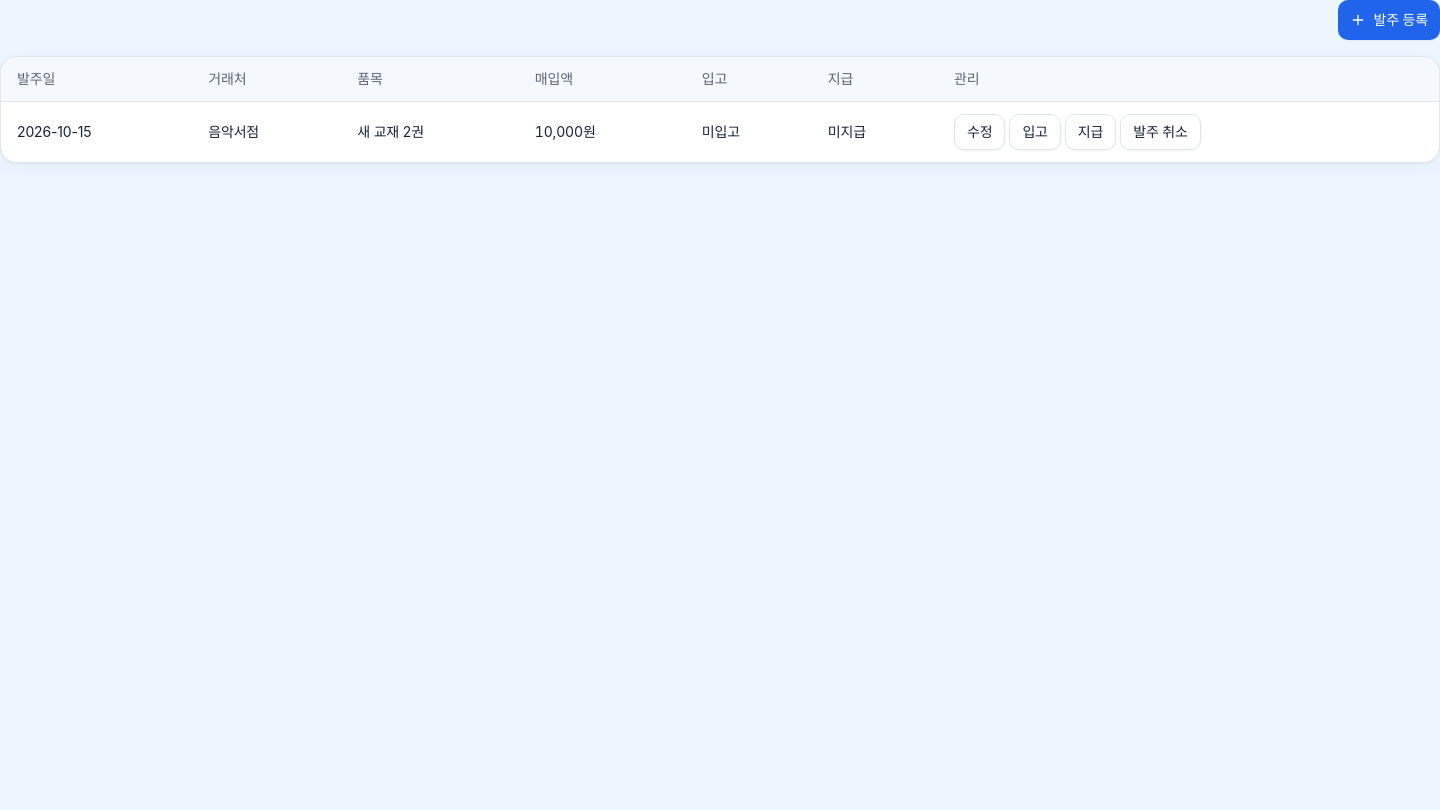
교재 발주·입고 화면 › 발주 품목과 지급 상태를 표시하고 입고·지급 액션을 분리한다
The width and height of the screenshot is (1440, 810).
expect the text "음악서점" is shown: met, box [192,101,341,162]
expect the text "10,000원" is shown: met, box [519,101,686,162]
Click the button with aria-label "음악서점 지급": point(1091, 132) [1065,114,1116,150]
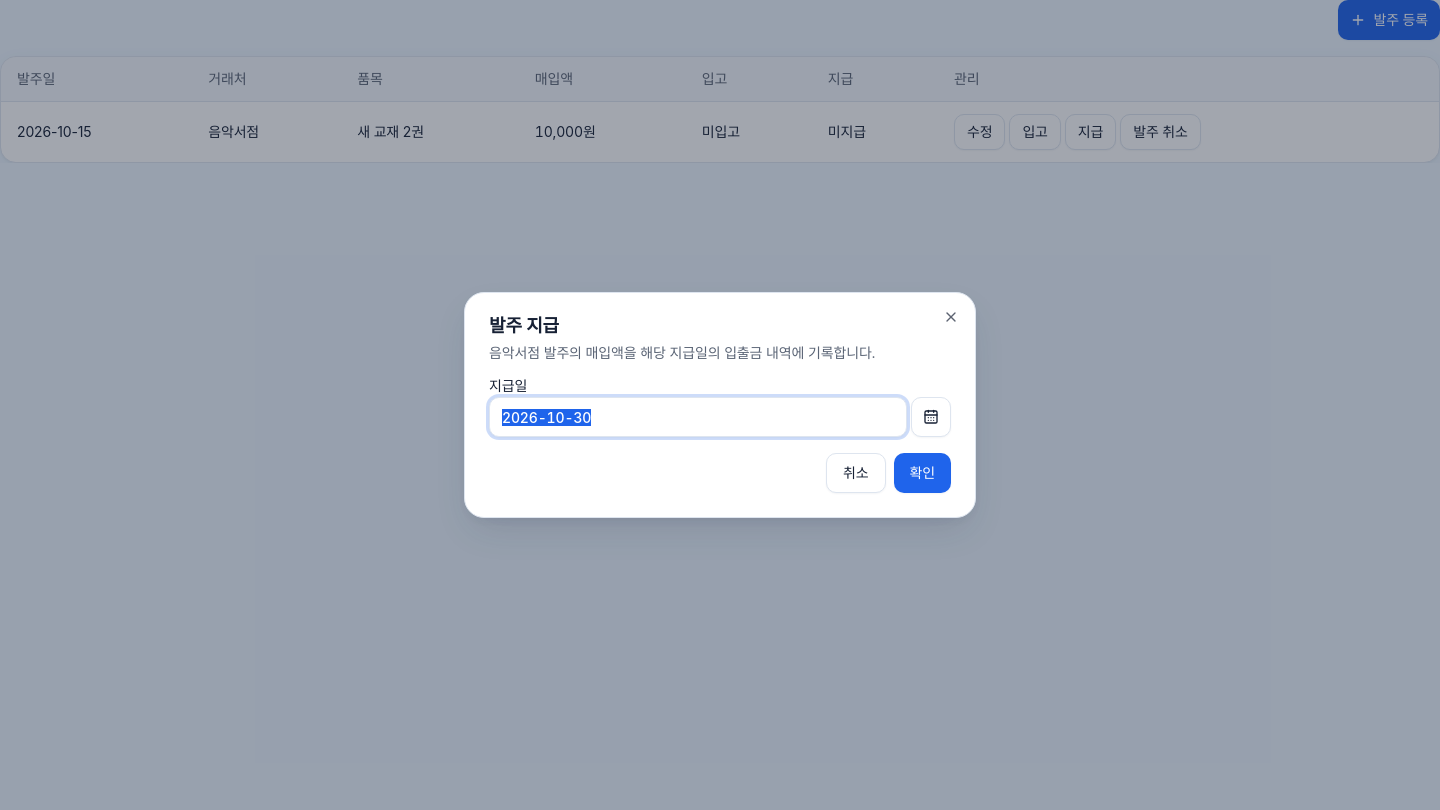
expect the dialog "발주 지급" is shown: met, box [464,292,976,518]
expect the field labelled "지급일" is shown: met, box [489,397,907,437]
Click the button "취소": point(856, 473) [826,453,886,493]
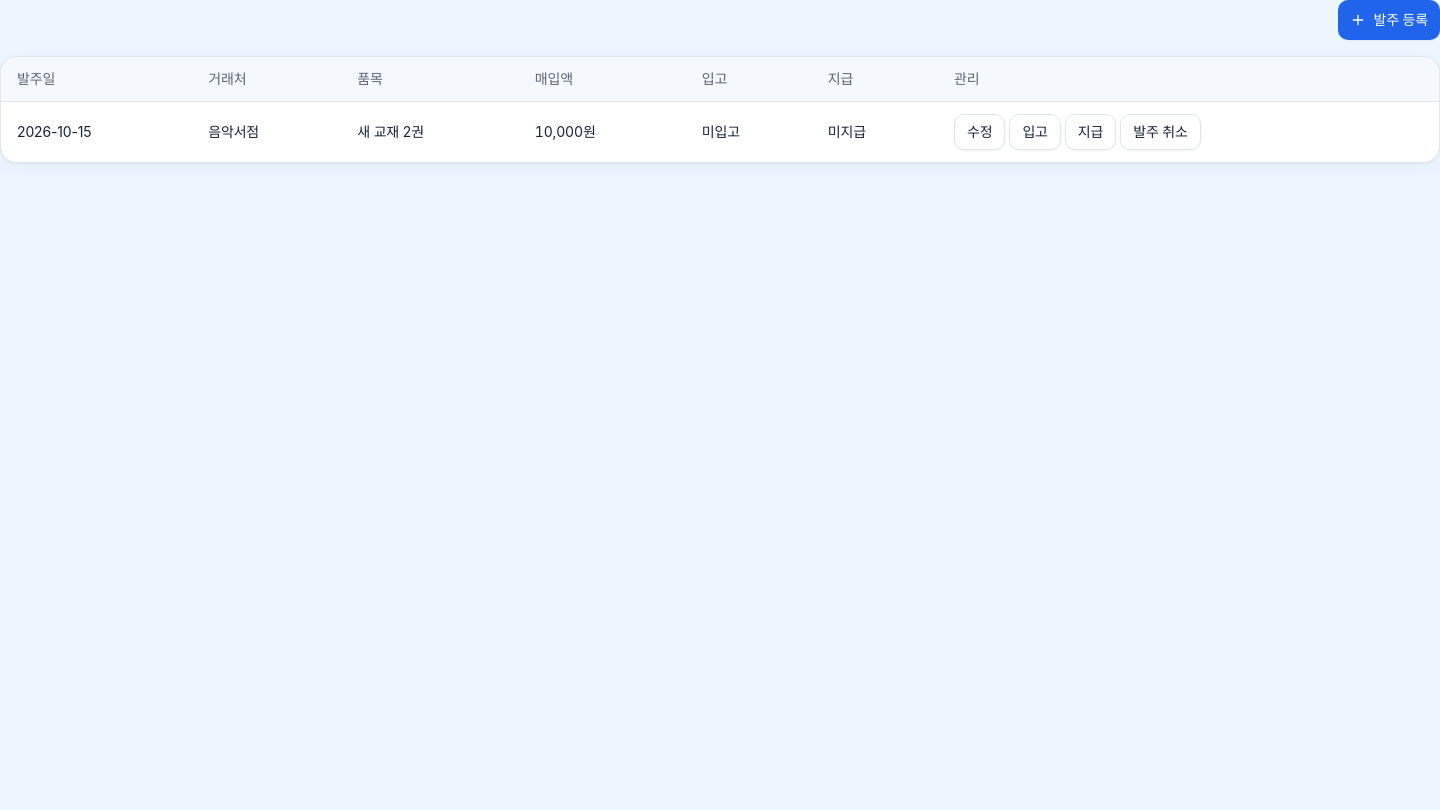
Click the button with aria-label "음악서점 입고 확인": point(1035, 132) [1009,114,1061,150]
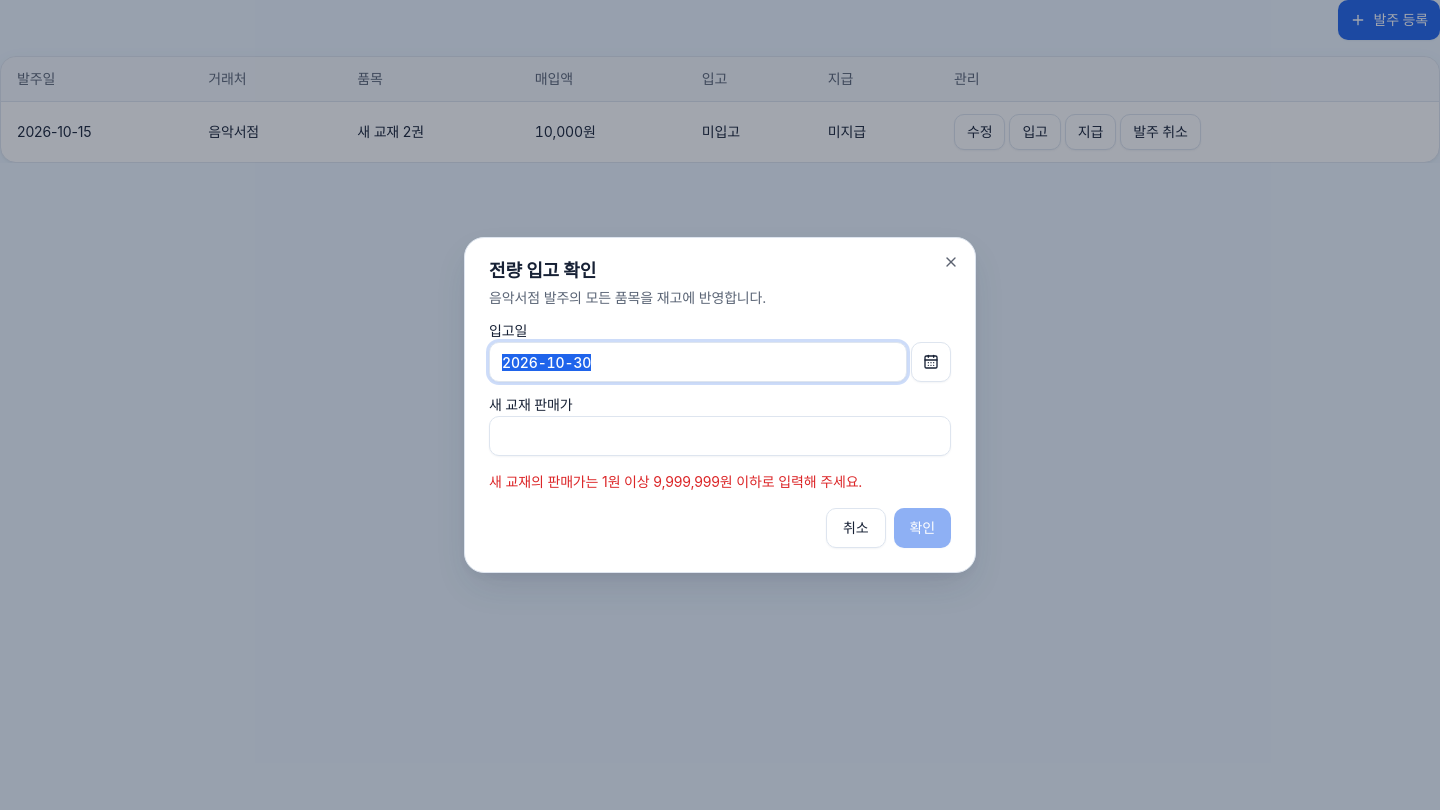
expect the field labelled "새 교재 판매가" is shown: met, box [489,416,951,456]
expect the dialog "전량 입고 확인" is shown: met, box [464,237,976,573]
